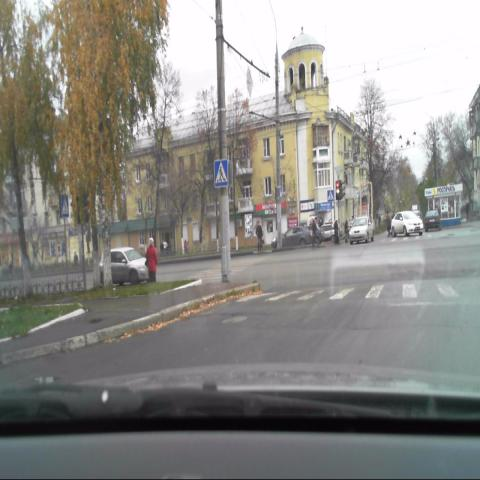5_19_1: (214, 157, 230, 188), (61, 193, 72, 218)
